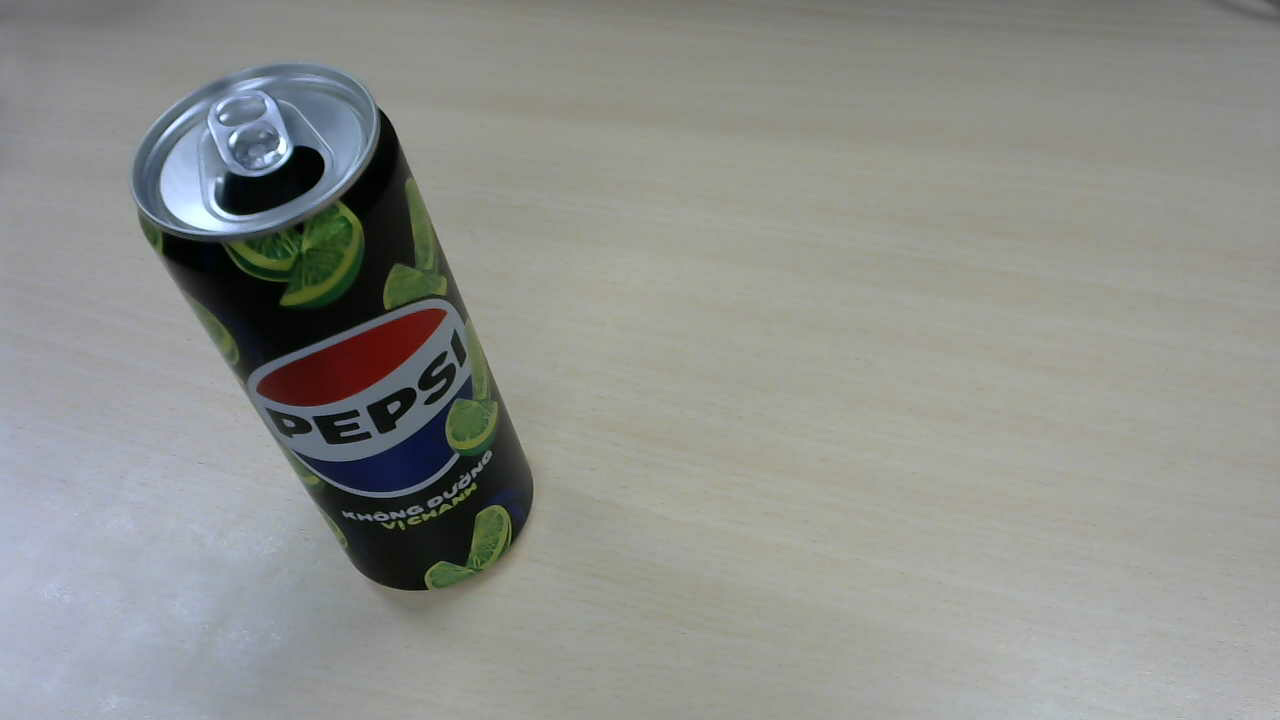Pepsi: (130, 65, 541, 596)
